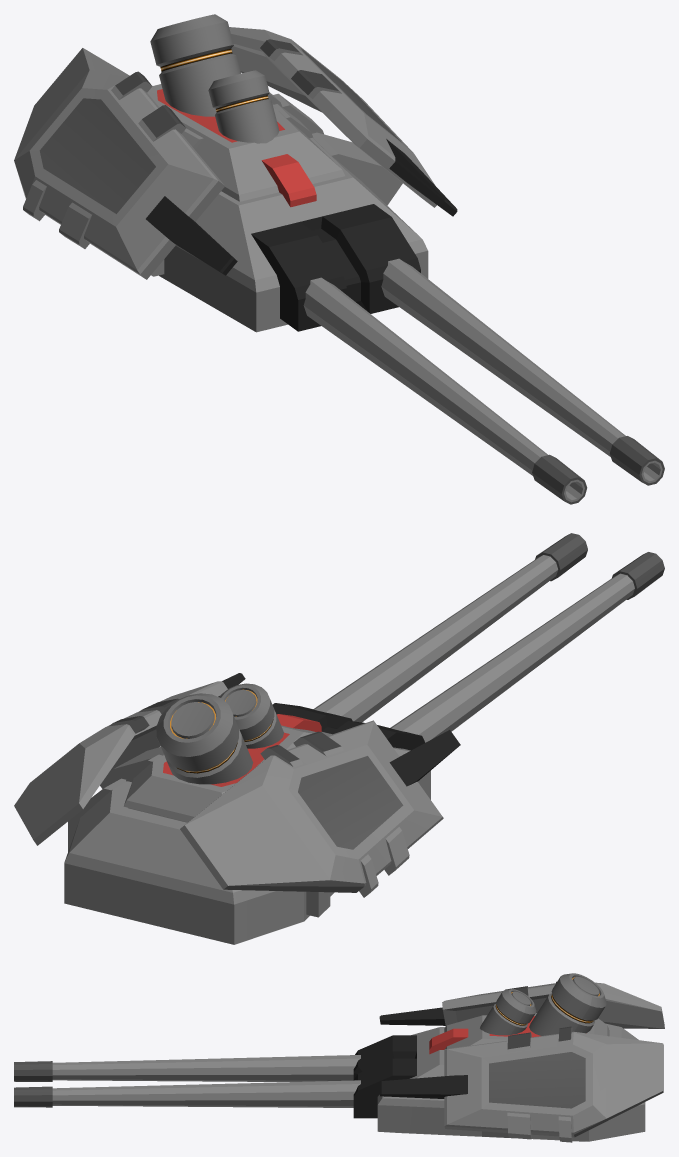
The model's file is model_polyfleet_battleship_canon09.fbx.
3 renders of one model, top to bottom at view 1: azimuth 30°, elevation 25°; view 2: azimuth 150°, elevation 25°; view 3: azimuth 270°, elevation 25°, orthographic. The views are drawn at different scales.
Visible parts, largest first — view 1: model_cannon09, model_cannon_small_barrels, model_cannon_small_barrels1, model_cannon09_model_cannon08_pCylinder1, model_cannon08_pCylinder2; view 2: model_cannon09, model_cannon_small_barrels, model_cannon_small_barrels1, model_cannon09_model_cannon08_pCylinder1, model_cannon08_pCylinder2; view 3: model_cannon09, model_cannon_small_barrels, model_cannon_small_barrels1, model_cannon09_model_cannon08_pCylinder1, model_cannon08_pCylinder2.
Boxes of the visible parts, x1,y1,x2,y2 form: model_cannon09: [14, 27, 457, 332]; model_cannon_small_barrels: [381, 258, 664, 485]; model_cannon_small_barrels1: [303, 277, 587, 504]; model_cannon09_model_cannon08_pCylinder1: [150, 14, 240, 116]; model_cannon08_pCylinder2: [208, 70, 279, 143]; model_cannon09: [14, 673, 460, 944]; model_cannon_small_barrels: [313, 533, 587, 722]; model_cannon_small_barrels1: [390, 552, 664, 742]; model_cannon09_model_cannon08_pCylinder1: [156, 693, 253, 784]; model_cannon08_pCylinder2: [219, 683, 283, 748]; model_cannon09: [353, 981, 664, 1142]; model_cannon_small_barrels: [14, 1080, 360, 1107]; model_cannon_small_barrels1: [14, 1055, 360, 1081]; model_cannon09_model_cannon08_pCylinder1: [529, 973, 606, 1035]; model_cannon08_pCylinder2: [480, 989, 536, 1035].
Bounding box in the file's own units: 365 × 193 × 870.
